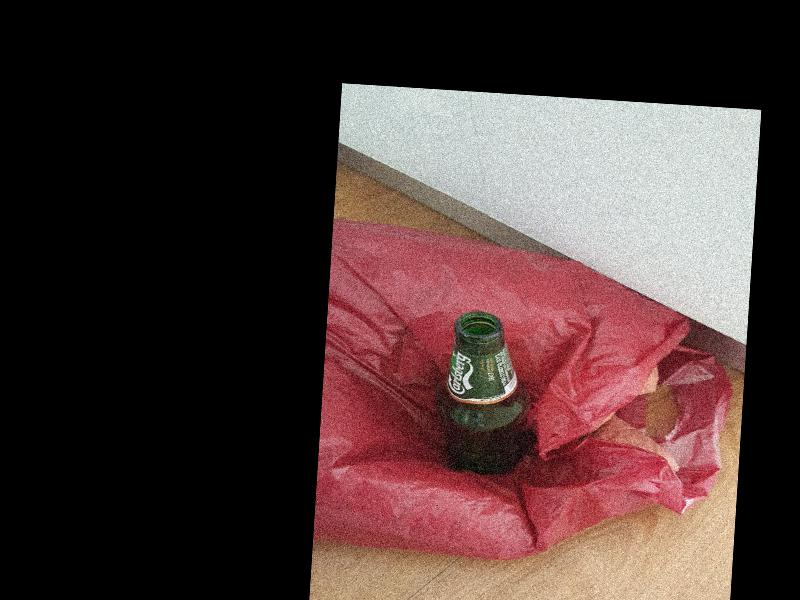Beer: (431, 311, 535, 477)
